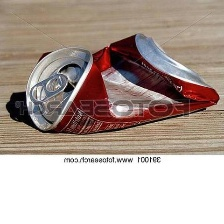can: (20, 32, 220, 138)
